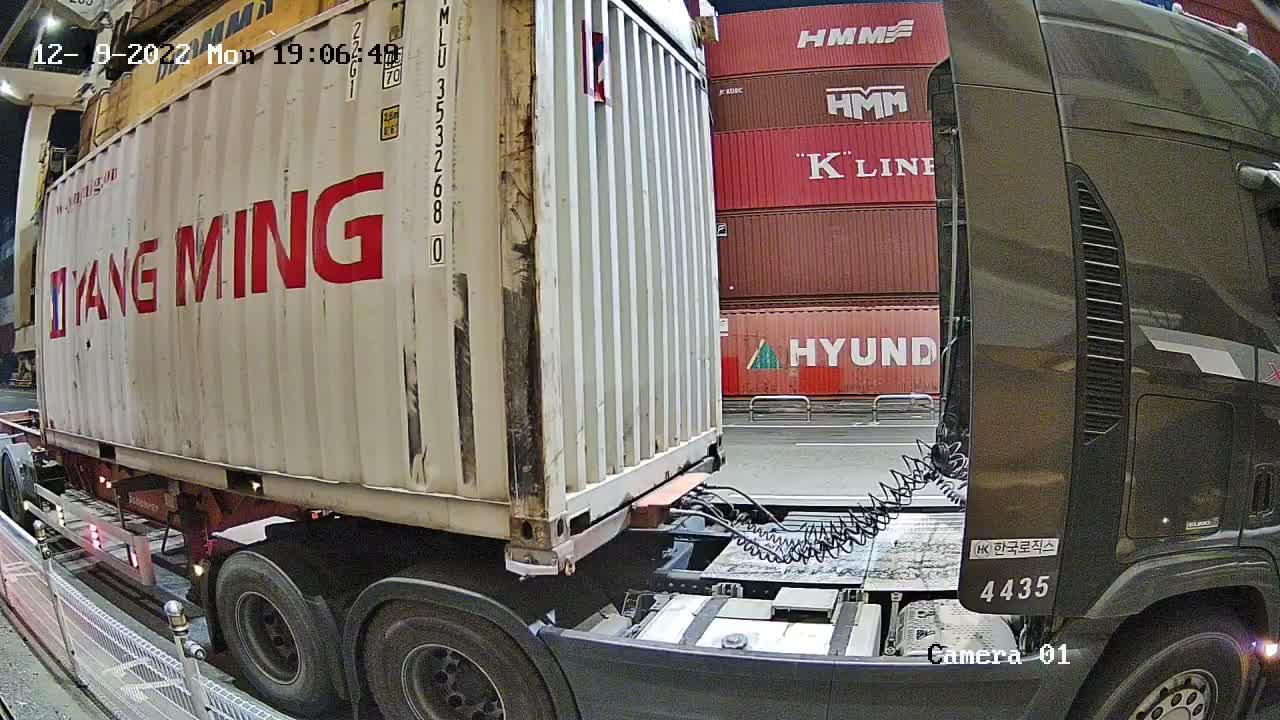Chassis: (508, 451, 728, 572)
Hole_L: (547, 474, 600, 549)
Hole_R: (489, 485, 551, 548), (702, 414, 726, 458)
Tire: (368, 602, 554, 717), (218, 555, 324, 710)
